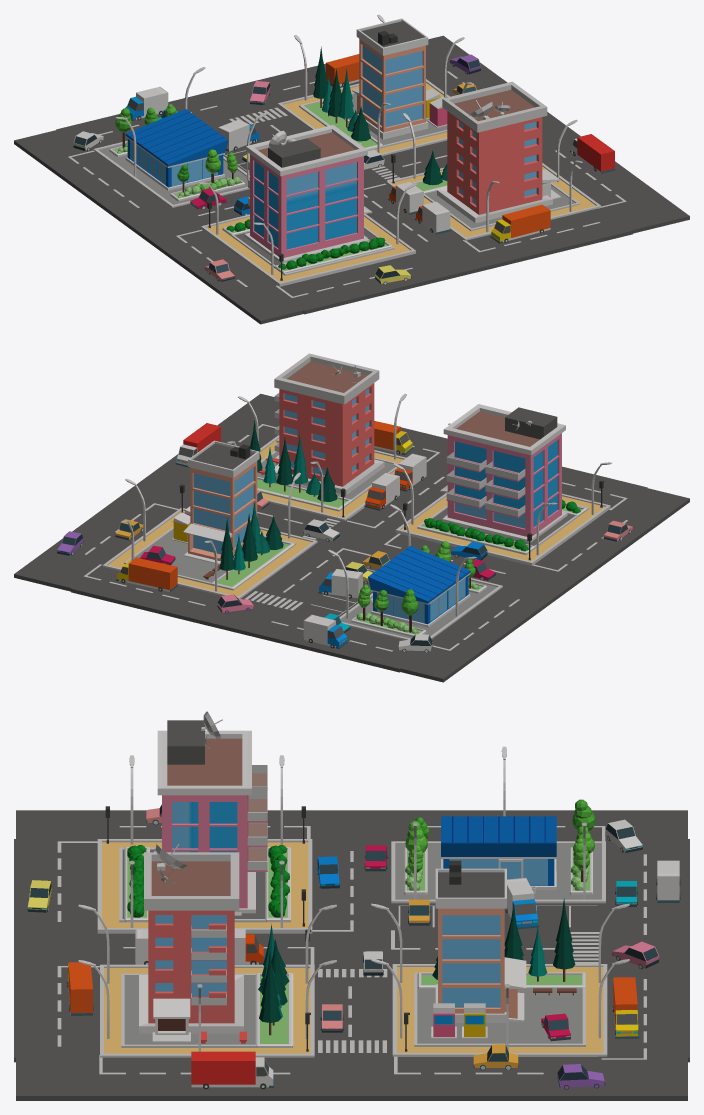
File: City_Pack.gltf
The picture shows the model from 3 angles, top to bottom: view 1: azimuth 30°, elevation 25°; view 2: azimuth 150°, elevation 25°; view 3: azimuth 270°, elevation 25°; orthographic projection. The views are drawn at different scales.
Visible parts, largest first — view 1: ROAD, House, House_2, House_3, Shop, Floor, Floor_4_4, Floor_2, Car_08_3, Floor_3, Car_08_4, Floor_4_2 (+11 smaller); view 2: ROAD, House, House_2, House_3, Shop, Floor, Floor_3, Floor_4_4, Floor_4_3, Car_08_5, Floor_2, Car_08_1 (+13 smaller); view 3: ROAD, House_2, House, House_3, Shop, Floor_3, Floor_2, Floor_4_3, Floor, Floor_4_4, Floor_4_2, Car_08_4 (+28 smaller).
Part boxes in pixels (x1=…): ROAD: x1=14, y1=35, x2=689, y2=324; House: x1=244, y1=125, x2=372, y2=263; House_2: x1=437, y1=81, x2=561, y2=223; House_3: x1=352, y1=18, x2=428, y2=139; Shop: x1=125, y1=109, x2=228, y2=190; Floor: x1=201, y1=213, x2=415, y2=286; Floor_4_4: x1=93, y1=140, x2=249, y2=207; Floor_2: x1=386, y1=163, x2=601, y2=240; Car_08_3: x1=490, y1=204, x2=550, y2=243; Floor_3: x1=277, y1=79, x2=449, y2=155; Car_08_4: x1=570, y1=134, x2=615, y2=173; Floor_4_2: x1=424, y1=182, x2=579, y2=231; ROAD: x1=14, y1=393, x2=689, y2=682; House: x1=440, y1=404, x2=567, y2=542; House_2: x1=274, y1=353, x2=384, y2=494; House_3: x1=183, y1=440, x2=259, y2=564; Shop: x1=368, y1=546, x2=470, y2=627; Floor: x1=395, y1=492, x2=610, y2=565; Floor_3: x1=102, y1=507, x2=317, y2=598; Floor_4_4: x1=339, y1=578, x2=502, y2=640; Floor_4_3: x1=124, y1=526, x2=296, y2=590; Car_08_5: x1=116, y1=557, x2=177, y2=591; Floor_2: x1=260, y1=435, x2=406, y2=520; Car_08_1: x1=303, y1=614, x2=347, y2=648; ROAD: x1=14, y1=810, x2=689, y2=1100; House_2: x1=139, y1=852, x2=243, y2=1042; House: x1=154, y1=720, x2=267, y2=915; House_3: x1=435, y1=860, x2=526, y2=1022; Shop: x1=441, y1=816, x2=556, y2=889; Floor_3: x1=392, y1=964, x2=607, y2=1056; Floor_2: x1=100, y1=964, x2=314, y2=1057; Floor_4_3: x1=414, y1=972, x2=585, y2=1046; Floor: x1=97, y1=839, x2=312, y2=933; Floor_4_4: x1=391, y1=841, x2=605, y2=903; Floor_4_2: x1=121, y1=973, x2=292, y2=1047; Car_08_4: x1=191, y1=1051, x2=273, y2=1089.
Bounding box in the file's own units: 2192 × 609 × 2192.
Materials: 102 (102 with a texture image).
